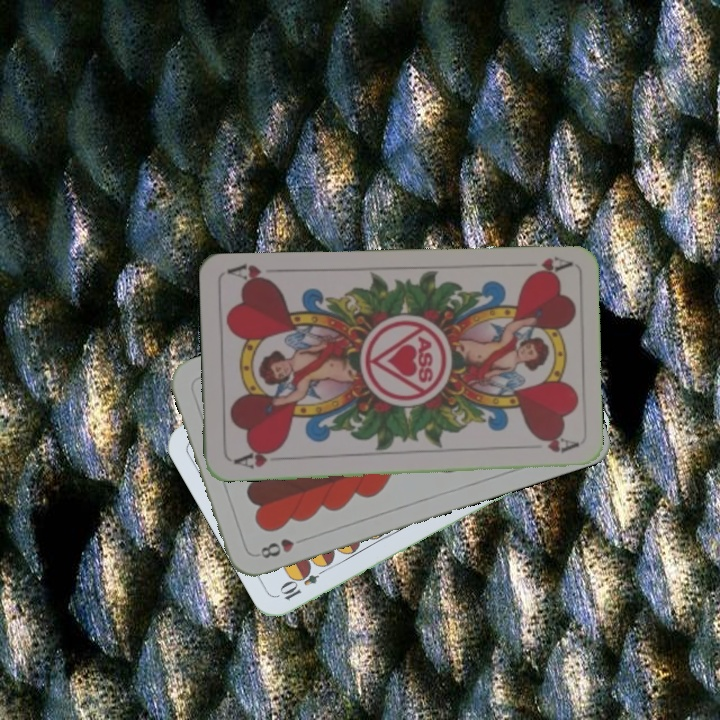E10: (276, 561, 331, 603)
H8: (253, 534, 297, 561)
HA: (229, 445, 287, 471), (524, 252, 573, 280)
